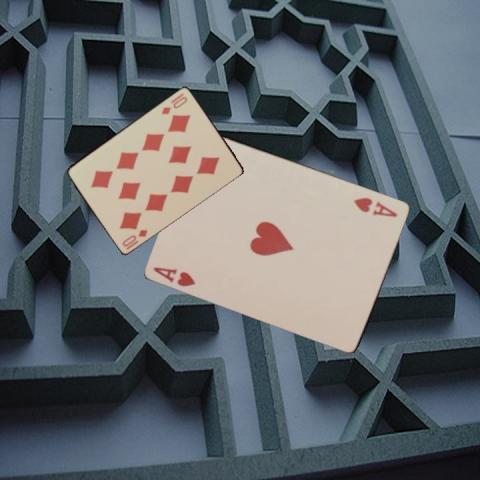10d: (158, 90, 188, 115), (119, 226, 149, 248)
Ah: (351, 194, 399, 219), (151, 263, 197, 288)
